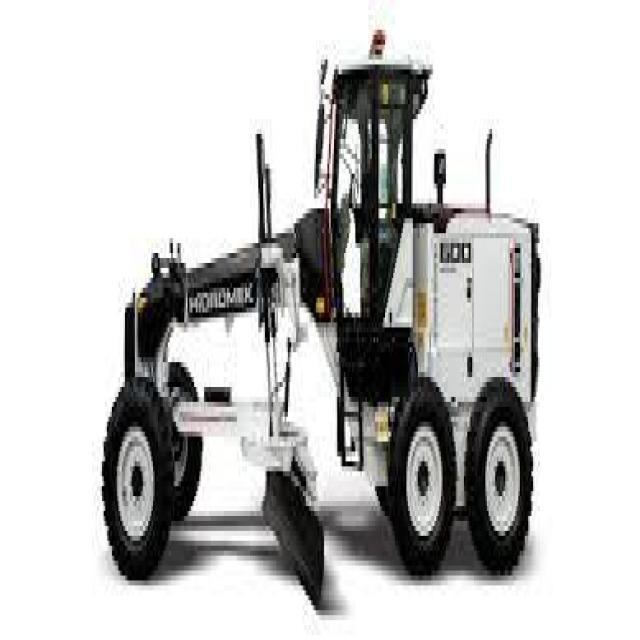Grader: (80, 35, 560, 635)
